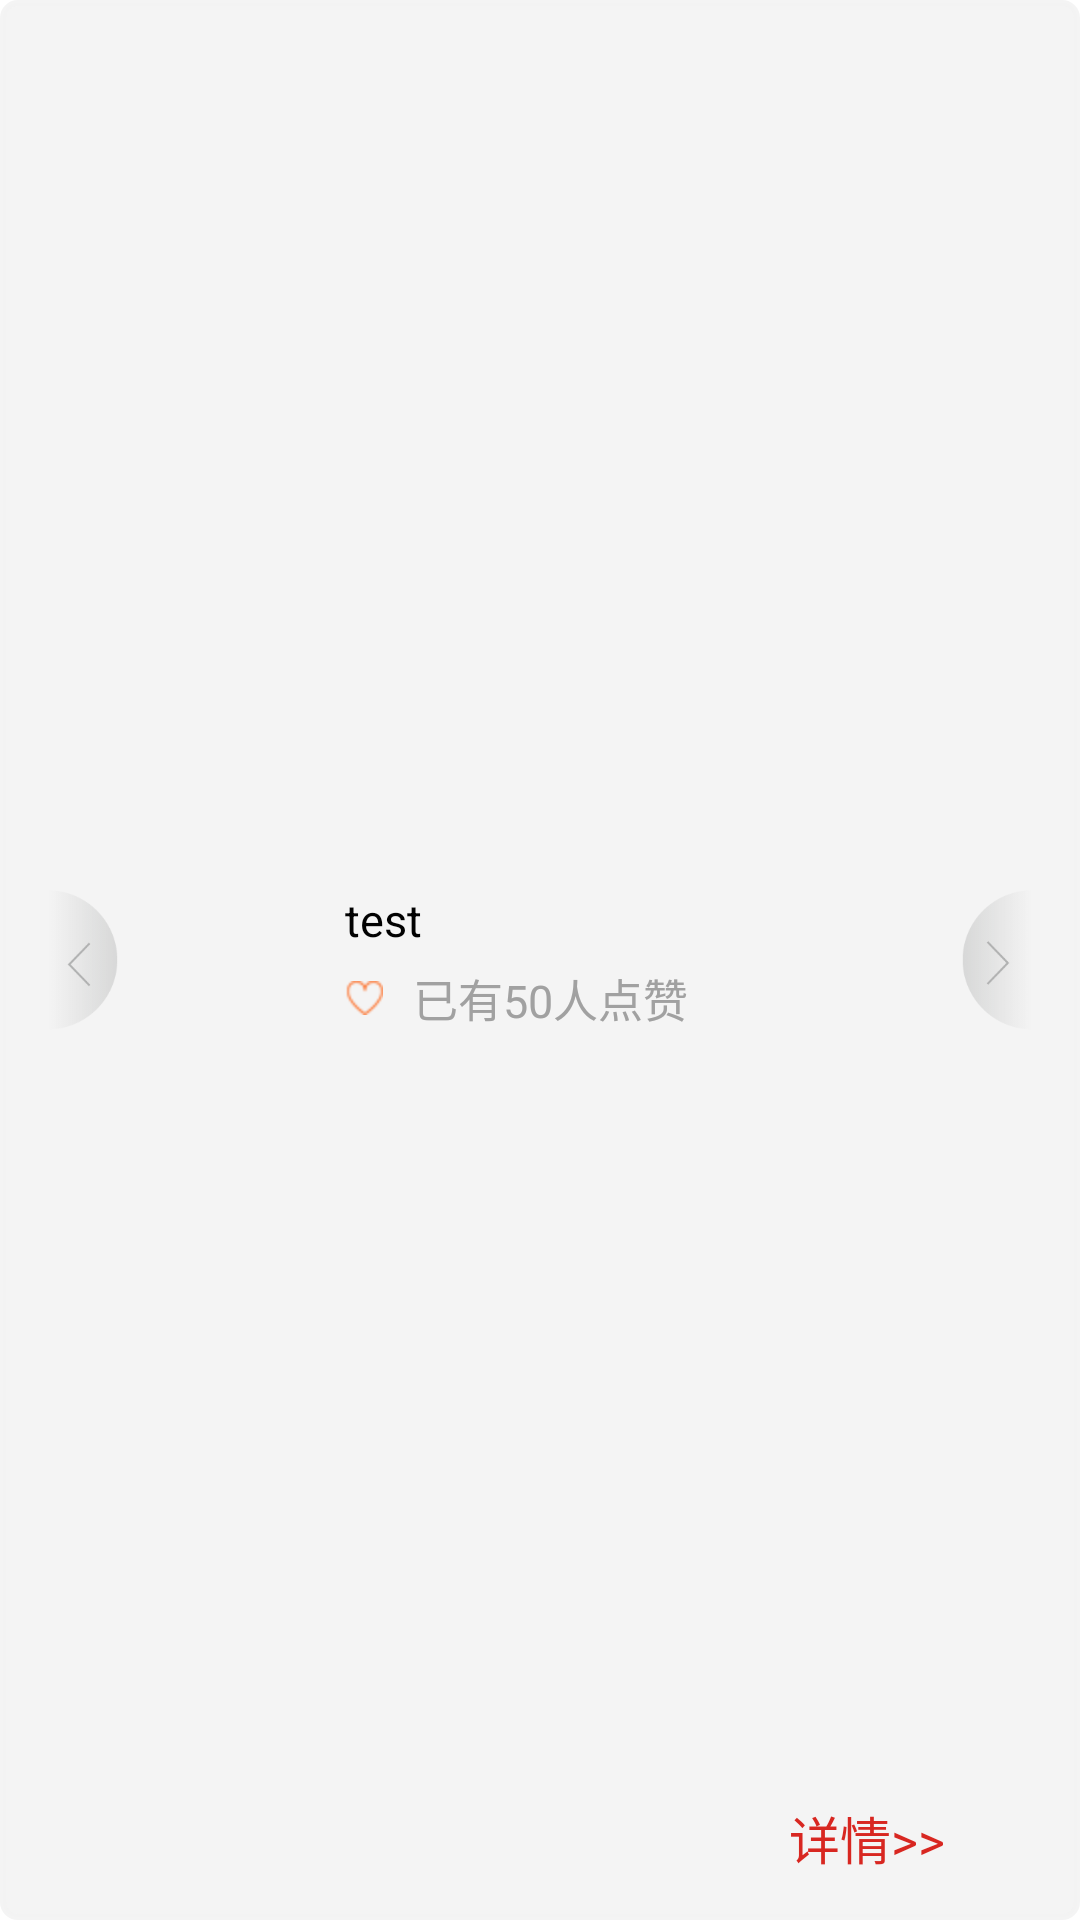

Screen size 1080w x 1920h. Icon name, then its box in pixels as (x1, y1, x2, y2):
left: (67, 894, 117, 1025)
right: (963, 894, 1013, 1026)
